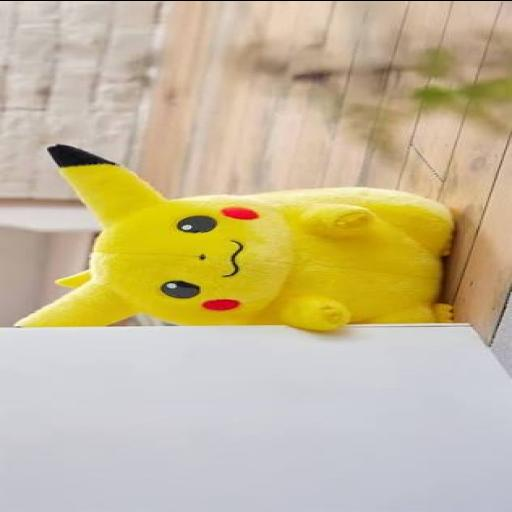Pikachu: (11, 142, 456, 330)
